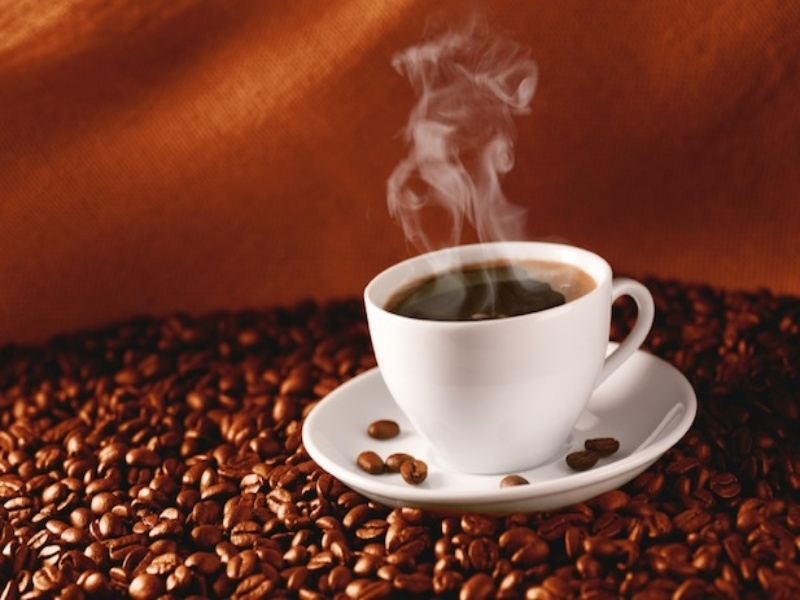smoke: (394, 28, 525, 288)
